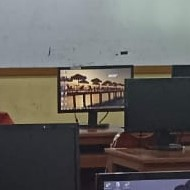monitor: (0, 123, 81, 187), (57, 65, 134, 114), (123, 77, 190, 133)
